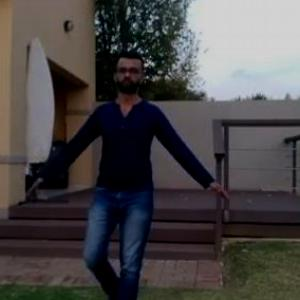land: (42, 53, 228, 299)
